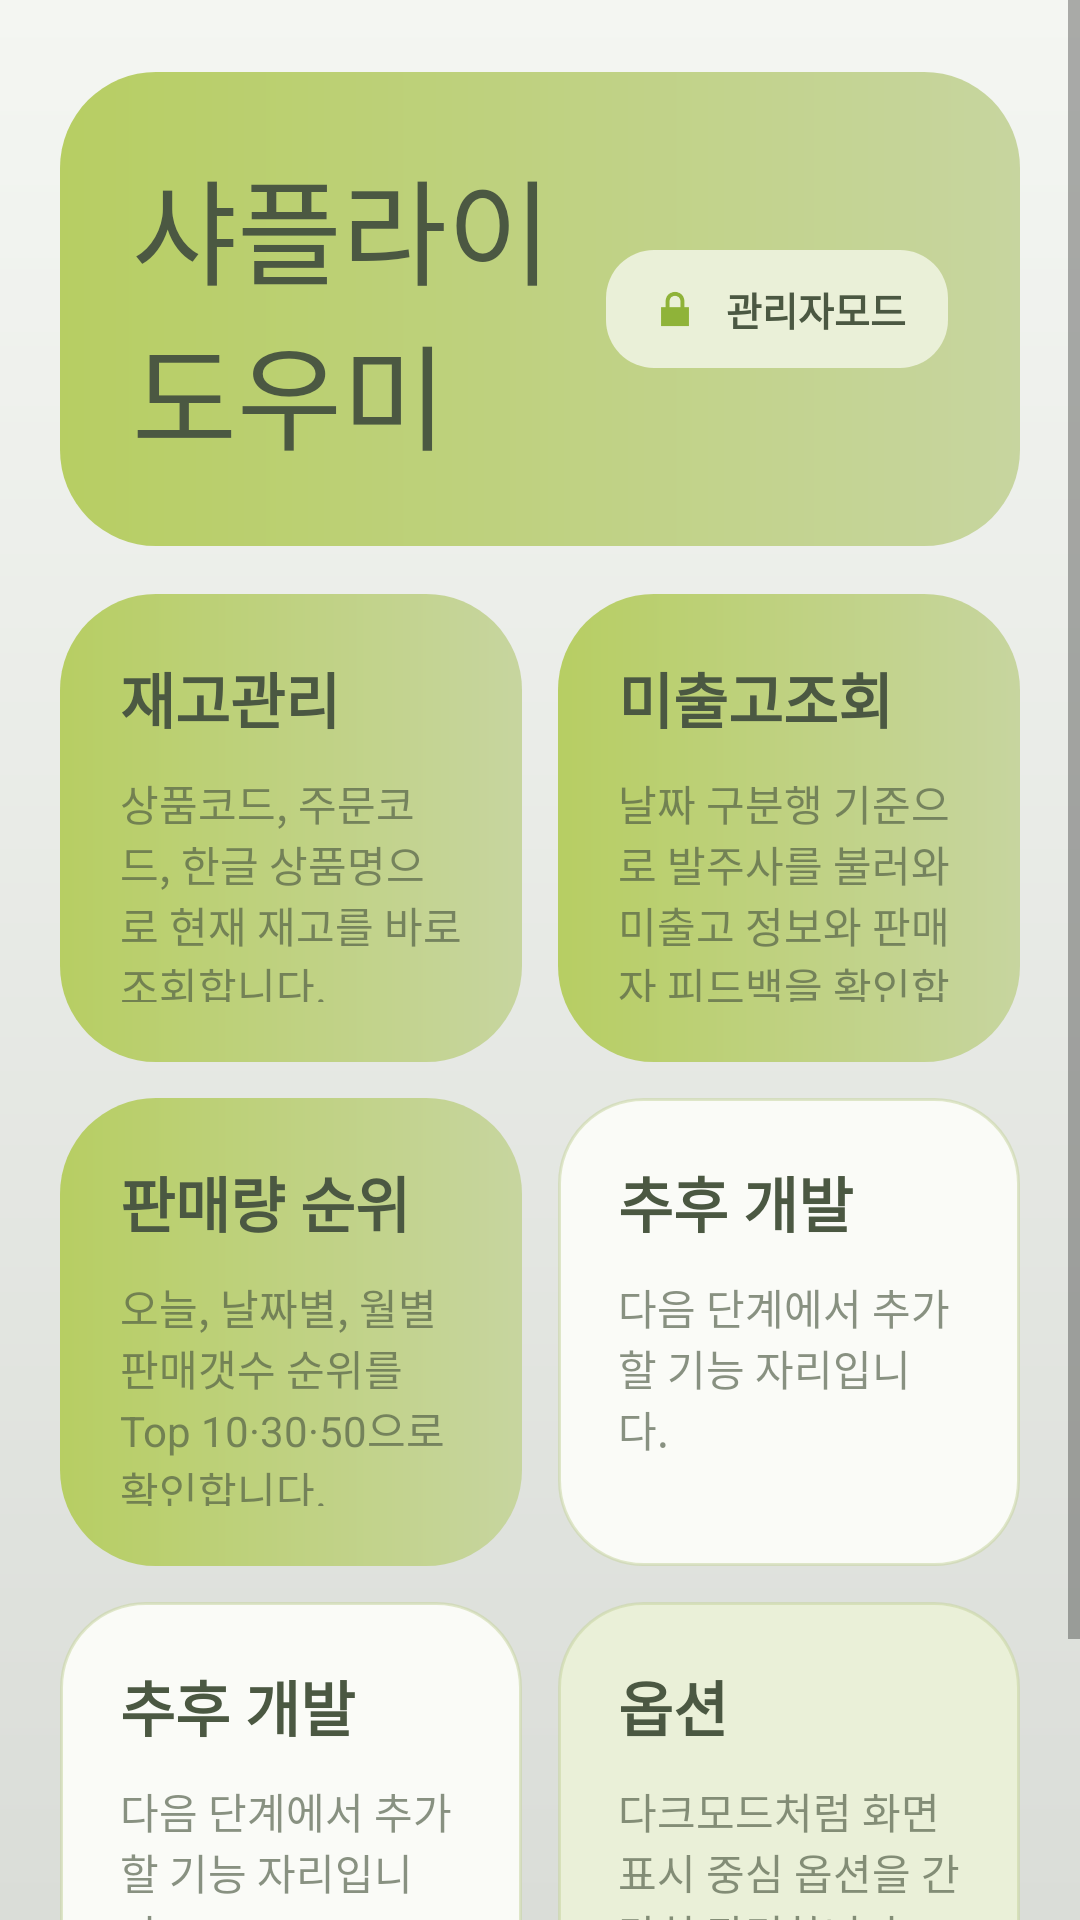

Named icons in this screenshot (1080 x 1920) and their bounding boxes, BBox(x1, y1, x2, y2):
lock: BBox(661, 292, 689, 326)
